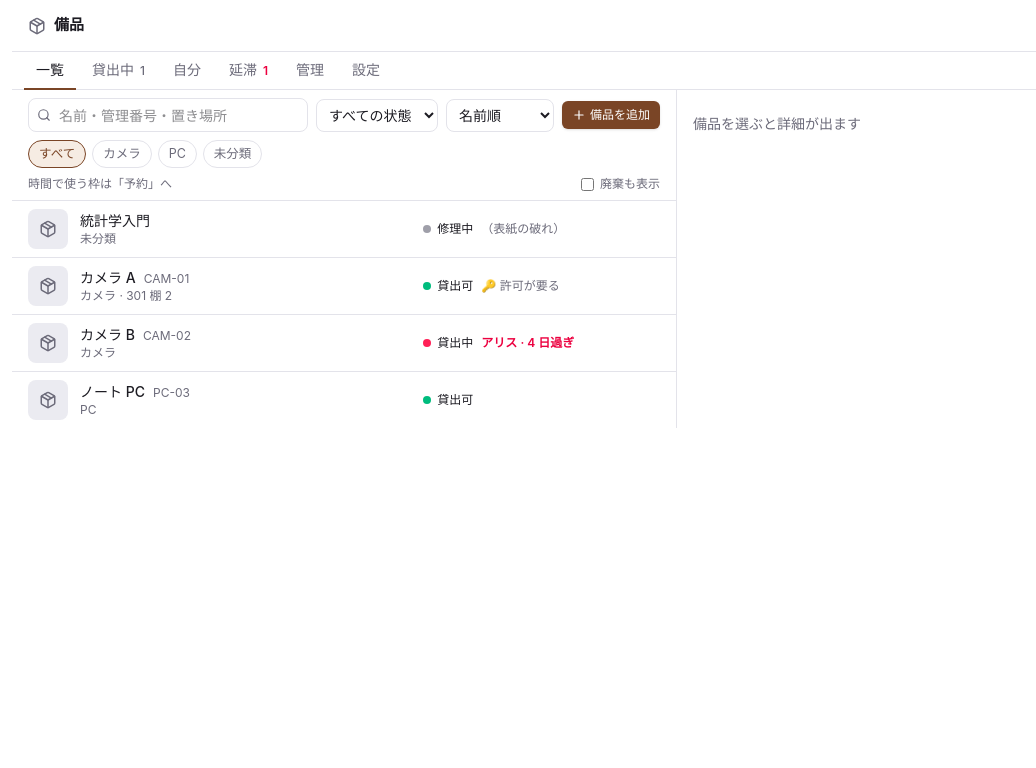
Test: the page › a keeper: 延滞 and 管理, editing, recording someone's return; 設定 with lending.manage
expect the button "備品を追加" is shown: met, box 562,101 -> 660,129
Click the button "カメラ B CAM-02 カメラ 貸出中 アリス · 4 日過ぎ": [48, 343] box 12,315 -> 676,371
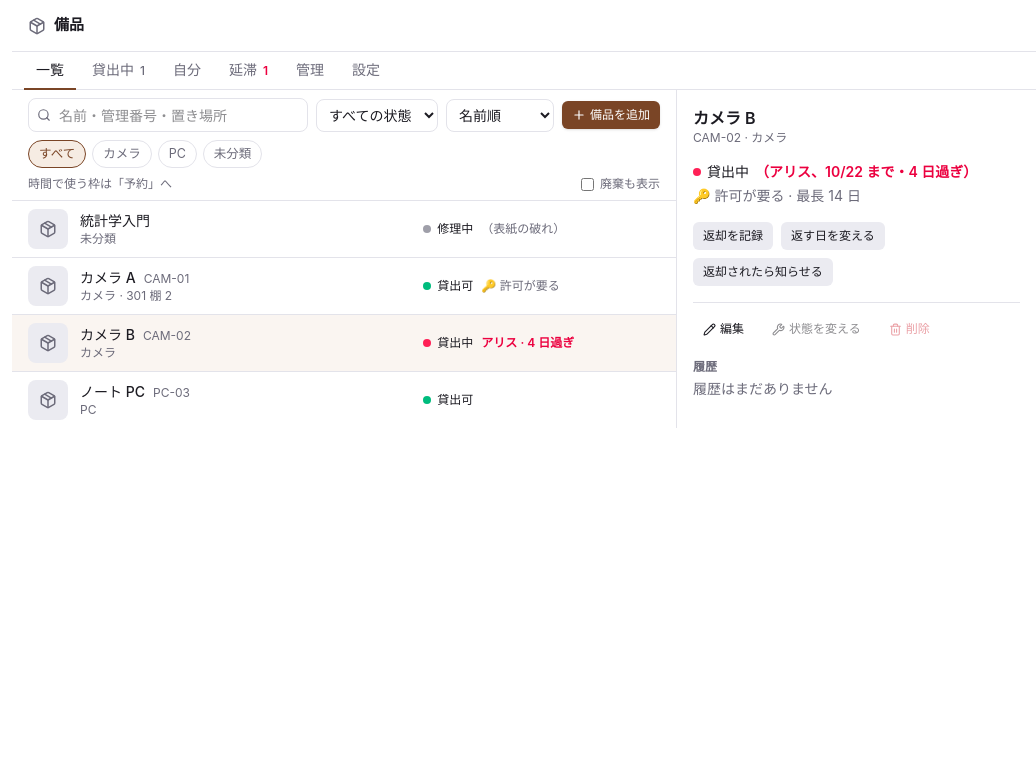
expect the button "返却を記録" is shown: met, box 693,222 -> 773,250
expect the button "返す日を変える" is shown: met, box 781,222 -> 885,250
expect the button "状態を変える" is disabled: met, box 762,315 -> 871,343
Click the tab "設定": [366, 71] box 340,52 -> 392,90
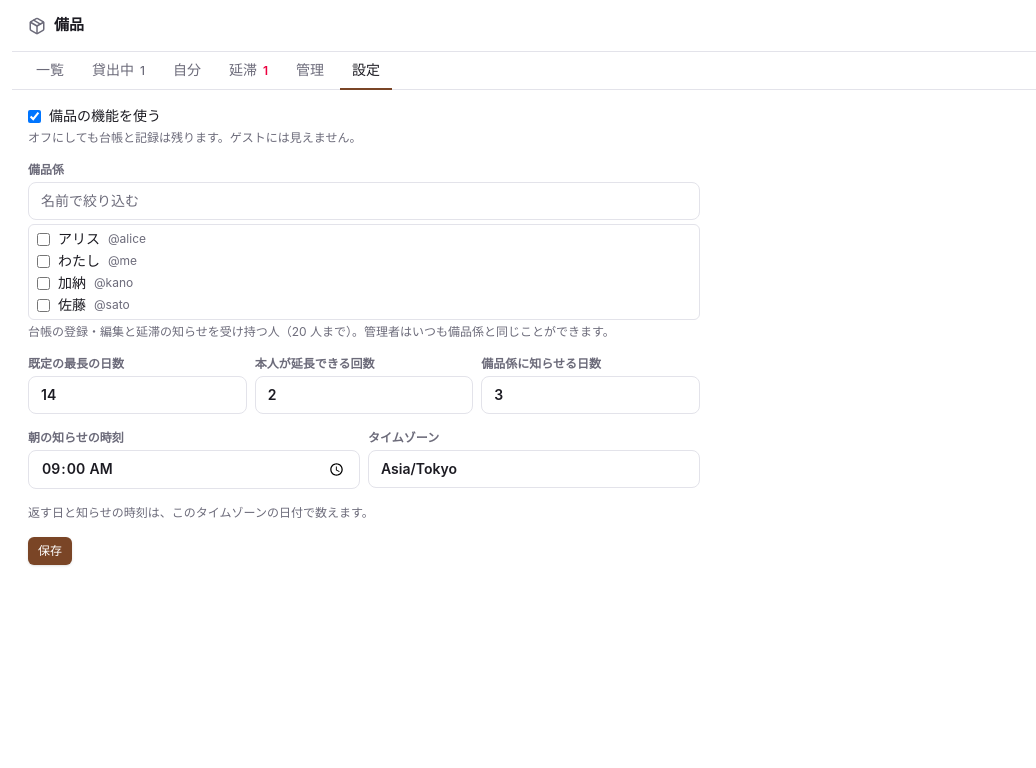
expect the form is shown: met, box 28,106 -> 700,565
